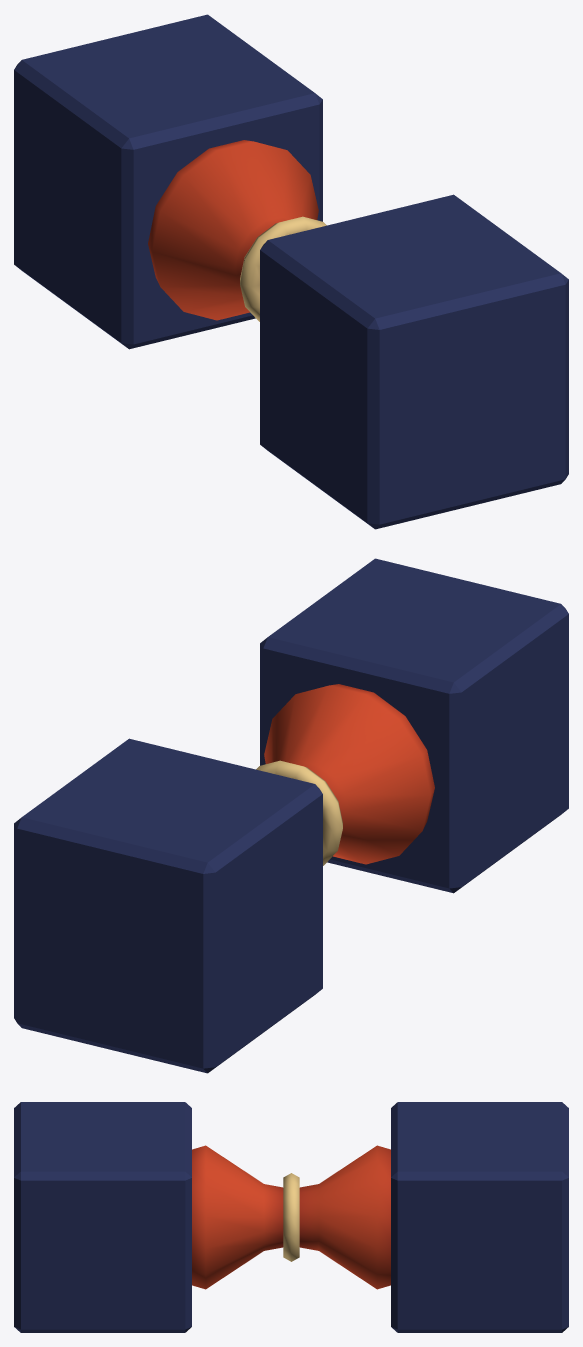
File: R4C_STRUT_STANDARD_LOD1.fbx
3 views of the same model, one above another, from view 1: azimuth 30°, elevation 25°; view 2: azimuth 150°, elevation 25°; view 3: azimuth 270°, elevation 25° (orthographic). The views are drawn at different scales.
Visible parts, largest first — view 1: R4C_STRUT_STANDARD_LOD1; view 2: R4C_STRUT_STANDARD_LOD1; view 3: R4C_STRUT_STANDARD_LOD1.
Boxes of the visible parts, <box> form: R4C_STRUT_STANDARD_LOD1: <box>14,14,568,529</box>; R4C_STRUT_STANDARD_LOD1: <box>14,558,568,1073</box>; R4C_STRUT_STANDARD_LOD1: <box>14,1102,568,1332</box>.
Bounding box in the file's own units: 0.52 × 0.52 × 1.62.
